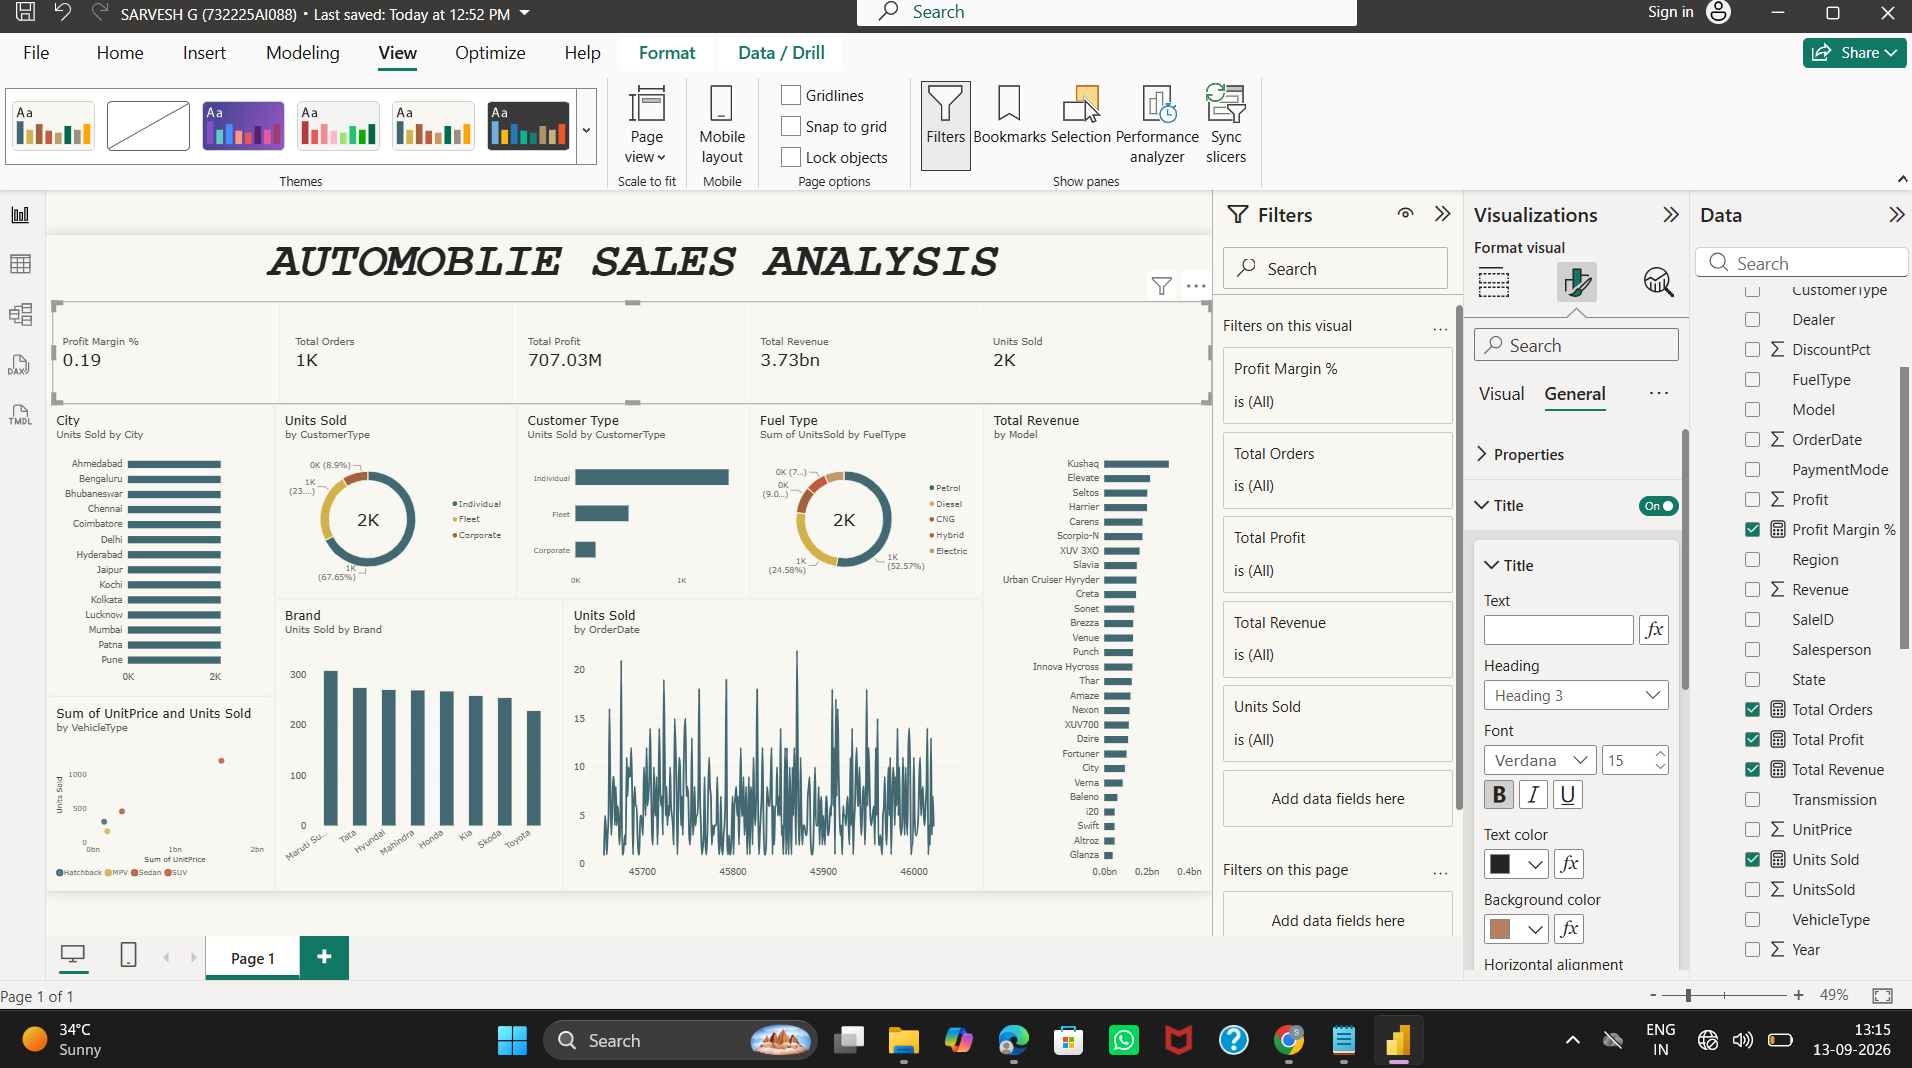

The page's visual inventory and layout, read from the dashboard file:
{"tool":"powerbi","page":{"name":"Page 1","canvas":[1920,1080],"ordinal":0},"visuals":[{"type":"textbox","box":[10.3,0,1910.1,168.8],"z":0},{"type":"columnChart","title":"Brand","fields":{"Category":["AutomobileSales.Brand"],"Y":["AutomobileSales.Units Sold"]},"box":[376.7,599,475.5,481.6],"z":1},{"type":"clusteredBarChart","fields":{"Category":["AutomobileSales.Model"],"Y":["AutomobileSales.Total Revenue"]},"box":[1543.7,277.9,376.7,802.7],"z":3},{"type":"lineChart","fields":{"Category":["AutomobileSales.OrderDate"],"Y":["AutomobileSales.Units Sold"]},"box":[852.1,599,691.6,481.6],"z":4},{"type":"cardVisual","fields":{"Data":["AutomobileSales.Profit Margin %","AutomobileSales.Total Orders","AutomobileSales.Total Profit","AutomobileSales.Total Revenue","AutomobileSales.Units Sold"]},"box":[10.3,109.1,1910,169],"z":5},{"type":"clusteredBarChart","title":"City","fields":{"Category":["AutomobileSalesTable.City"],"Y":["AutomobileSales.Units Sold"]},"box":[0,277.9,376.7,481.6],"z":6},{"type":"donutChart","fields":{"Category":["AutomobileSales.CustomerType"],"Y":["AutomobileSales.Units Sold"]},"box":[376.7,277.9,399.3,321.1],"z":7},{"type":"scatterChart","fields":{"Series":["AutomobileSales.VehicleType"],"X":["Sum(AutomobileSales.UnitPrice)"],"Y":["AutomobileSales.Units Sold"]},"box":[0,759.5,376.7,321.1],"z":8},{"type":"donutChart","title":"Fuel Type","fields":{"Category":["AutomobileSalesTable.FuelType"],"Y":["Sum(AutomobileSalesTable.UnitsSold)"]},"box":[1158.8,277.9,384.9,321.1],"z":9},{"type":"clusteredBarChart","title":"Customer Type","fields":{"Category":["AutomobileSales.CustomerType"],"Y":["AutomobileSales.Units Sold"]},"box":[776,277.9,382.8,321.1],"z":10}]}

Visuals, with their boxes on the page's 1920x1080 design canvas (x1, y1, x2, y2). These are canvas units, not pixel positions in the 1912x1068 screenshot, which may show the page scaled, cropped or inside an application window:
textbox: box=[10, 0, 1920, 169]
"Brand" columnChart: box=[377, 599, 852, 1081]
clusteredBarChart - AutomobileSales.Model x AutomobileSales.Total Revenue: box=[1544, 278, 1920, 1081]
lineChart - AutomobileSales.OrderDate x AutomobileSales.Units Sold: box=[852, 599, 1544, 1081]
cardVisual - AutomobileSales.Profit Margin % x AutomobileSales.Total Orders: box=[10, 109, 1920, 278]
"City" clusteredBarChart: box=[0, 278, 377, 760]
donutChart - AutomobileSales.CustomerType x AutomobileSales.Units Sold: box=[377, 278, 776, 599]
scatterChart - AutomobileSales.VehicleType x Sum(AutomobileSales.UnitPrice): box=[0, 760, 377, 1081]
"Fuel Type" donutChart: box=[1159, 278, 1544, 599]
"Customer Type" clusteredBarChart: box=[776, 278, 1159, 599]
